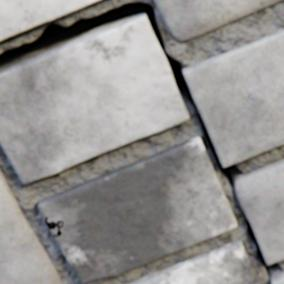brick: (0, 16, 189, 184), (39, 137, 237, 283), (183, 31, 283, 167), (0, 169, 62, 283), (129, 240, 260, 283), (153, 0, 283, 42), (235, 160, 283, 264), (0, 0, 102, 42), (271, 272, 283, 283), (51, 226, 58, 234)
crack: (0, 0, 283, 283), (45, 216, 64, 236), (85, 276, 111, 283)
